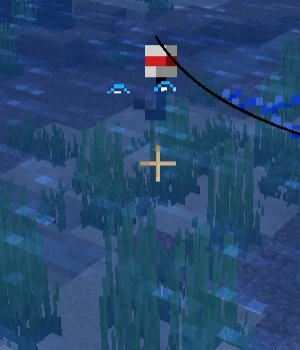up: (135, 40, 184, 125)
